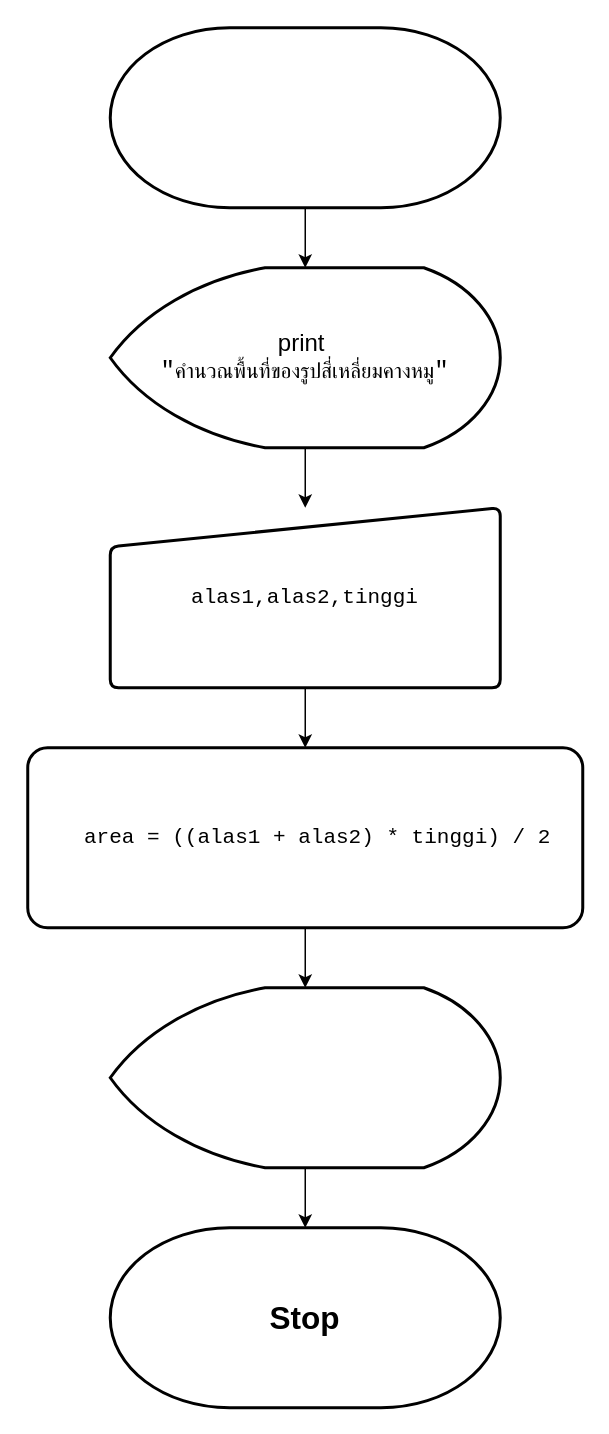
This 609x1434 diagram has some shape labels left out. The centre of each missing label's shape, as x and y in pixels:
print " พื้นที่ของรูปสี่เหลี่ยมคางหมู =", area, "-------------------------": [304,1077]
Start: [304,117]
